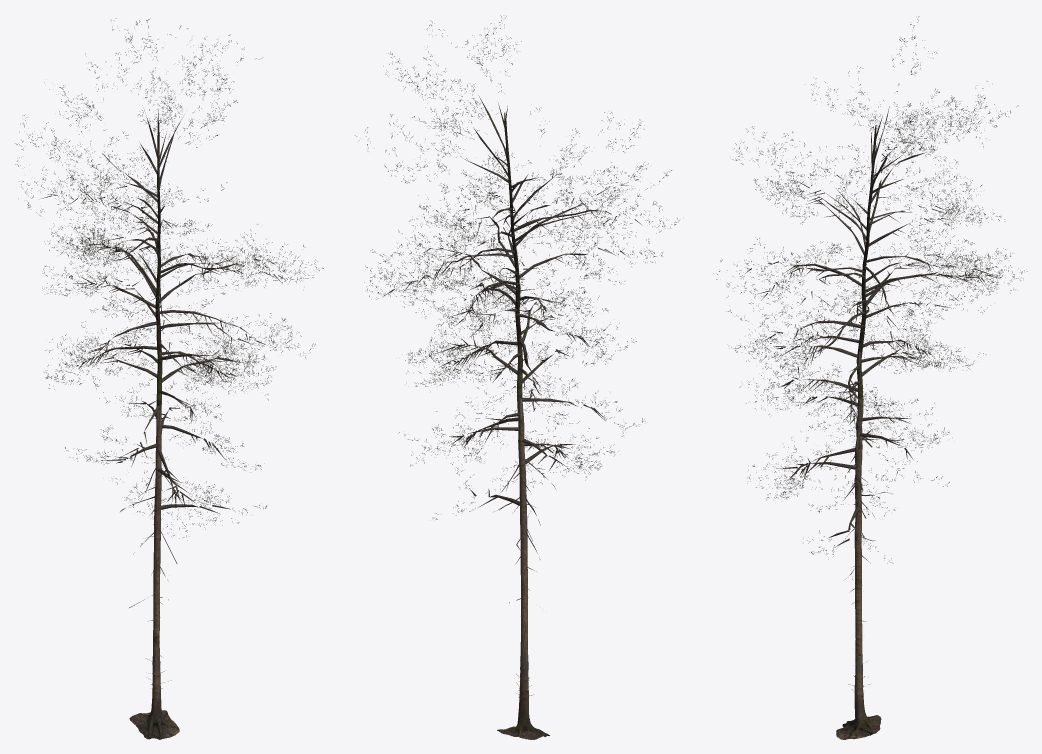
The model's file is pine_tree_01.glb.
The picture shows the model from 3 angles, left to right: view 1: azimuth 30°, elevation 25°; view 2: azimuth 150°, elevation 25°; view 3: azimuth 270°, elevation 25°; orthographic projection. The views are drawn at different scales.
Parts seen in each view (by area): view 1: pine_tree_01_a_LOD0; view 2: pine_tree_01_a_LOD0; view 3: pine_tree_01_a_LOD0.
Boxes of the visible parts, <box> form: pine_tree_01_a_LOD0: <box>15,18,323,739</box>; pine_tree_01_a_LOD0: <box>355,15,679,739</box>; pine_tree_01_a_LOD0: <box>713,16,1027,739</box>.
Bounding box in the file's own units: 7.51 × 20.35 × 8.15.
Materials: 4 (4 with a texture image).
